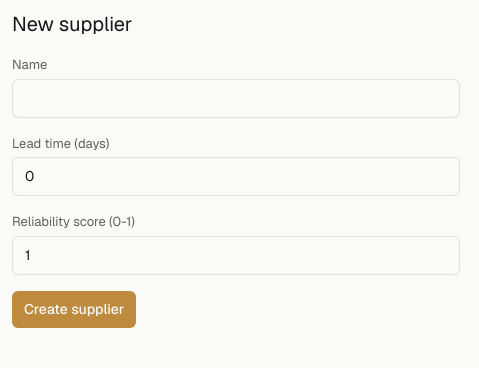
Test: NewSupplierContent › shows a validation error when reliability score is out of range
The image size is (479, 368).
Type "New Co" into the field labelled "Name" at (236,98), box [12,78,460,118]
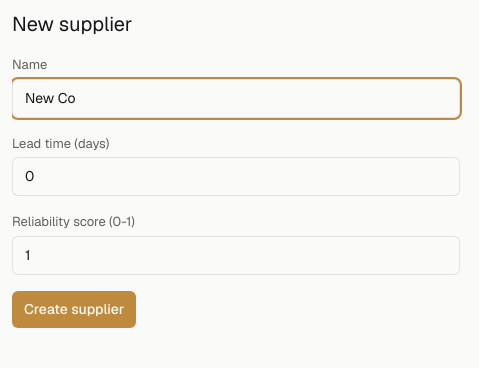
Replace the text in the number field labelled "Reliability score (0-1)" with "1.5" at (236,255), box [12,236,460,274]
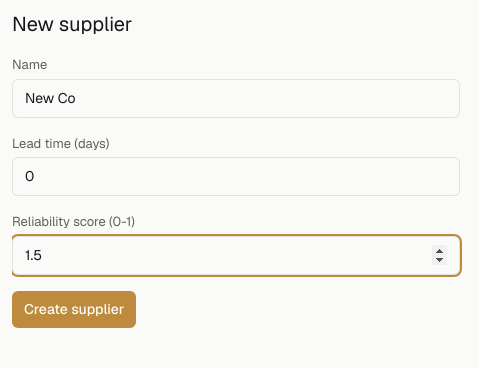
Click the button "Create supplier" at (74,309), box [12,290,136,328]
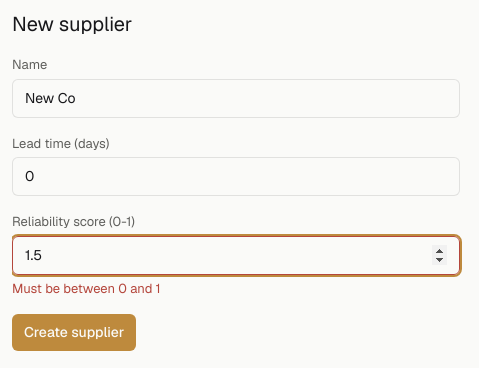
Result: the text "Must be between 0 and 1" is shown at [12,280,161,296]
